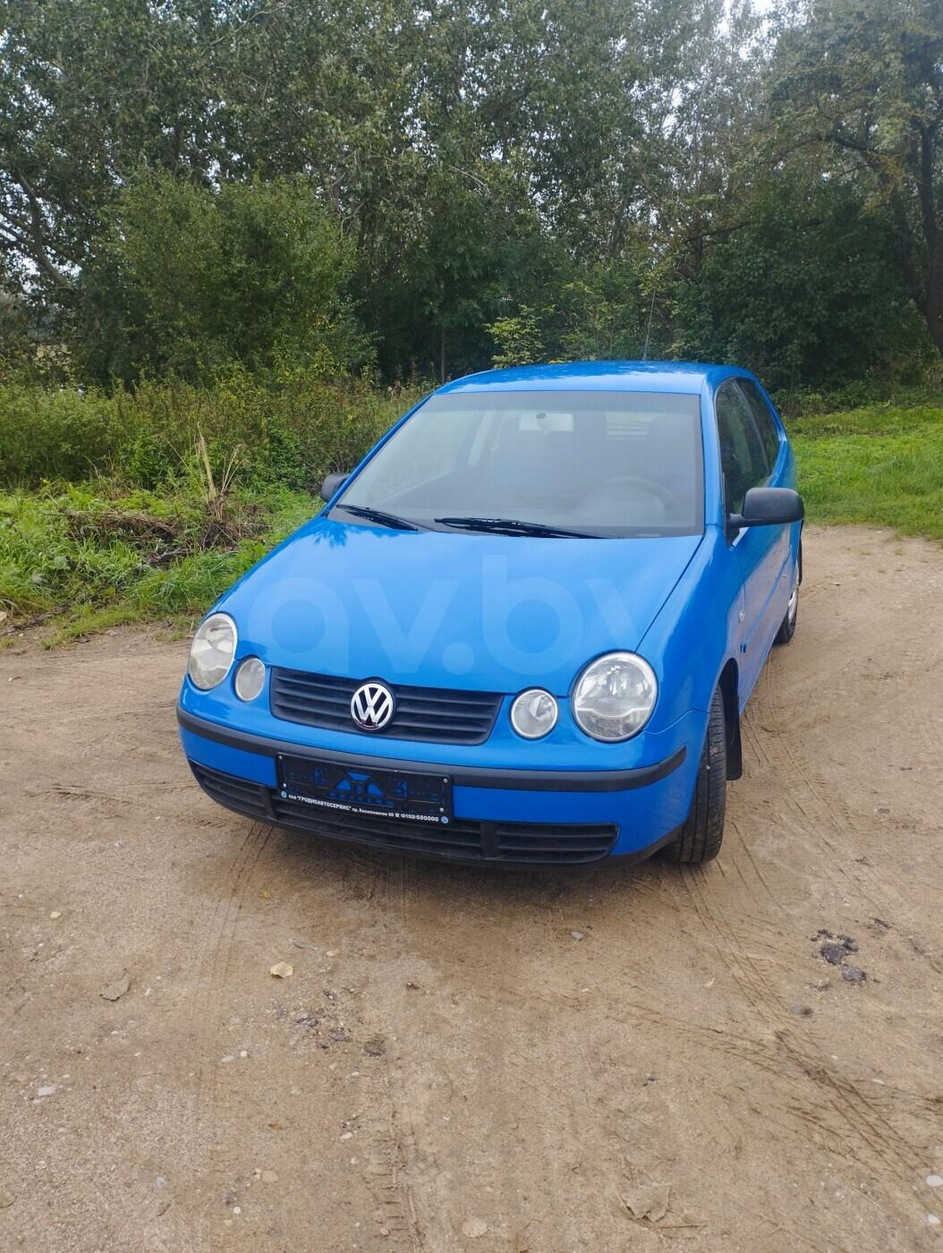Polo_2001-2005: (141, 343, 846, 924)
